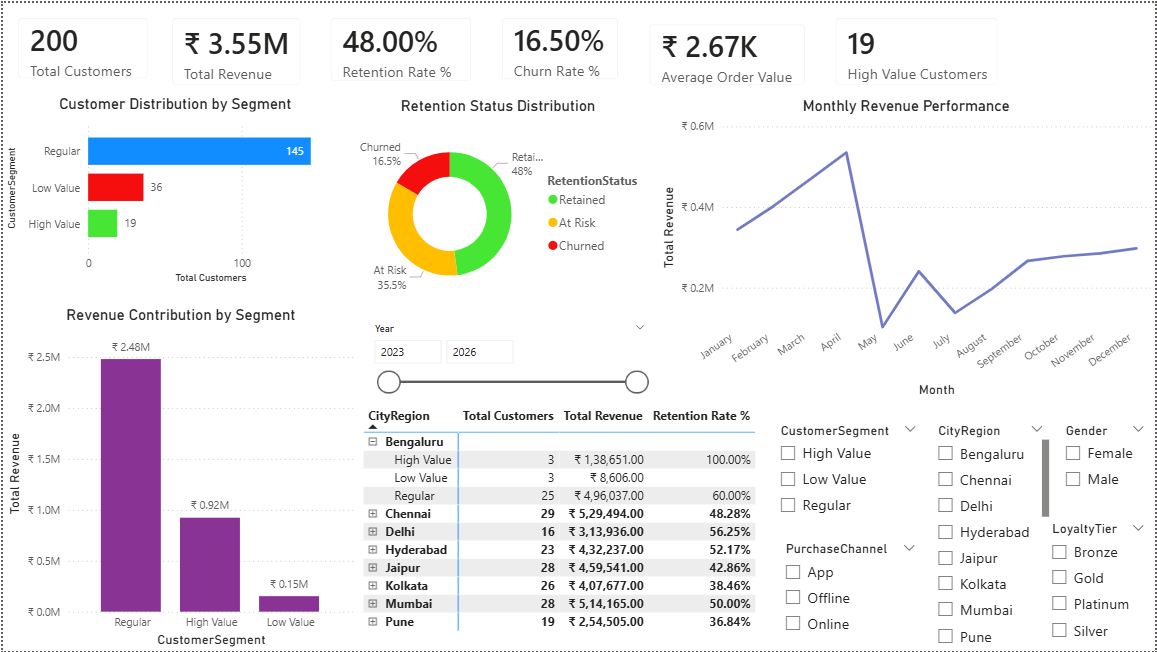

The page's visual inventory and layout, read from the dashboard file:
{"tool":"powerbi","page":{"name":"Dashboard","canvas":[1280,720],"ordinal":0},"visuals":[{"type":"cardVisual","fields":{"Data":["Dim Channel.High Value Customers"]},"box":[908.4,0,214.1,108.4],"z":0},{"type":"slicer","fields":{"Values":["Dim Date.Year"]},"box":[400.7,349.9,325.2,111.1],"z":1000},{"type":"cardVisual","fields":{"Data":["Dim Date.Total Customers"]},"box":[0,0,178.4,101.5],"z":2000},{"type":"cardVisual","fields":{"Data":["Dim Channel.Total Revenue"]},"box":[170.2,0,177,108.4],"z":3000},{"type":"cardVisual","fields":{"Data":["Dim Channel.Churn Rate %"]},"box":[537.9,0,163.3,102.9],"z":4000},{"type":"cardVisual","fields":{"Data":["Dim Channel.Average Order Value"]},"box":[701.2,6.9,207.2,101.5],"z":5000},{"type":"cardVisual","fields":{"Data":["Dim Channel.Retention Rate %"]},"box":[347.2,0,190.7,104.3],"z":6000},{"type":"clusteredBarChart","title":"Customer Distribution by Segment","fields":{"Y":["Dim Date.Total Customers"],"Category":["Dim Segment.CustomerSegment"]},"box":[0,101.5,382.8,215.4],"z":7000},{"type":"clusteredColumnChart","title":"Revenue Contribution by Segment","fields":{"Category":["Dim Segment.CustomerSegment"],"Y":["Dim Channel.Total Revenue"]},"box":[0,336.2,395.2,384.2],"z":8000},{"type":"donutChart","title":"Retention Status Distribution","fields":{"Category":["Dim Retention Status.RetentionStatus"],"Y":["Dim Date.Total Customers"]},"box":[382.8,104.3,333.4,241.5],"z":9000},{"type":"lineChart","title":"Monthly Revenue Performance","fields":{"Y":["Dim Channel.Total Revenue"],"Category":["Dim Date.Month Hierarchy.Month"]},"box":[725.9,104.3,554.4,338.9],"z":10000},{"type":"pivotTable","fields":{"Rows":["Dim Region.CityRegion","Dim Segment.CustomerSegment"],"Values":["Dim Date.Total Customers","Dim Channel.Total Revenue","Dim Channel.Retention Rate %"]},"box":[395.2,443.2,446,277.2],"z":11000},{"type":"slicer","fields":{"Values":["Dim Region.CityRegion"]},"box":[1026.4,461.1,141.3,256.6],"z":12000},{"type":"slicer","fields":{"Values":["Dim Loyalty.LoyaltyTier"]},"box":[1152.7,570.8,127.6,149.6],"z":14000},{"type":"slicer","fields":{"Values":["Dim Channel.PurchaseChannel"]},"box":[857.6,592.8,168.8,124.9],"z":15000},{"type":"slicer","fields":{"Values":["Dim Customer.Gender"]},"box":[1167.8,461.1,112.5,109.8],"z":15001},{"type":"slicer","fields":{"Values":["Dim Segment.CustomerSegment"]},"box":[850.8,461.1,175.6,120.8],"z":15002}]}

Visuals, with their boxes in screenshot pixels (x1, y1, x2, y2), scaled from the page's 1280x720 canvas onto the 1157x652 screenshot:
cardVisual - Dim Channel.High Value Customers: 821,0,1015,98
slicer - Dim Date.Year: 362,317,656,417
cardVisual - Dim Date.Total Customers: 0,0,161,92
cardVisual - Dim Channel.Total Revenue: 154,0,314,98
cardVisual - Dim Channel.Churn Rate %: 486,0,634,93
cardVisual - Dim Channel.Average Order Value: 634,6,821,98
cardVisual - Dim Channel.Retention Rate %: 314,0,486,94
"Customer Distribution by Segment" clusteredBarChart: 0,92,346,287
"Revenue Contribution by Segment" clusteredColumnChart: 0,304,357,651
"Retention Status Distribution" donutChart: 346,94,647,313
"Monthly Revenue Performance" lineChart: 656,94,1156,401
pivotTable - Dim Region.CityRegion x Dim Segment.CustomerSegment: 357,401,760,651
slicer - Dim Region.CityRegion: 928,418,1055,650
slicer - Dim Loyalty.LoyaltyTier: 1042,517,1156,651
slicer - Dim Channel.PurchaseChannel: 775,537,928,650
slicer - Dim Customer.Gender: 1056,418,1156,517
slicer - Dim Segment.CustomerSegment: 769,418,928,527
